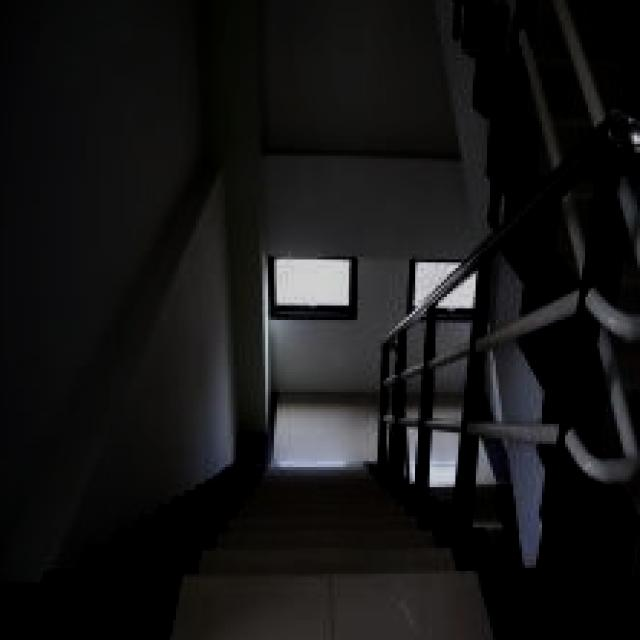downstair: (197, 488, 413, 635)
